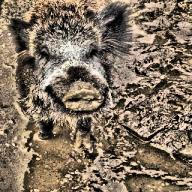boar: (9, 0, 133, 140)
